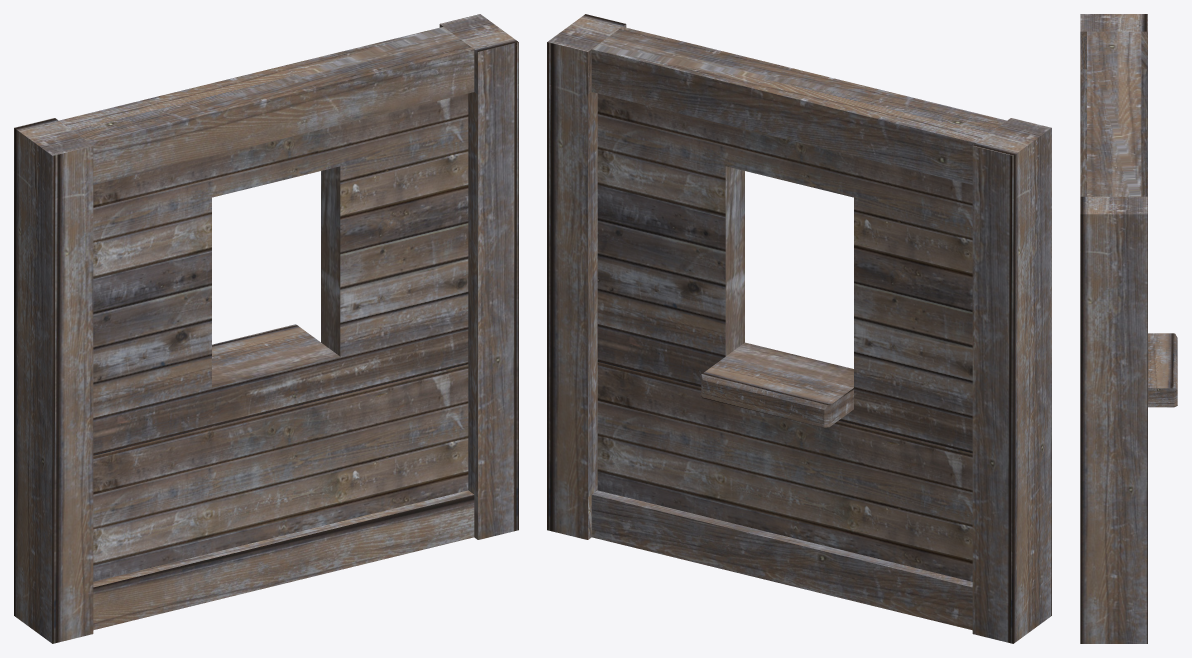
The model's file is wall_window.FBX.
3 renders of one model, left to right at view 1: azimuth 30°, elevation 25°; view 2: azimuth 150°, elevation 25°; view 3: azimuth 270°, elevation 25°, orthographic. The views are drawn at different scales.
Parts seen in each view (by area): view 1: Box005; view 2: Box005; view 3: Box005.
Boxes of the visible parts, bbox=[...] form: Box005: bbox=[14, 14, 518, 643]; Box005: bbox=[547, 14, 1051, 643]; Box005: bbox=[1080, 14, 1177, 643].
Bounding box in the file's own units: 140 × 140 × 28.73.
Materials: 1 (1 with a texture image).
